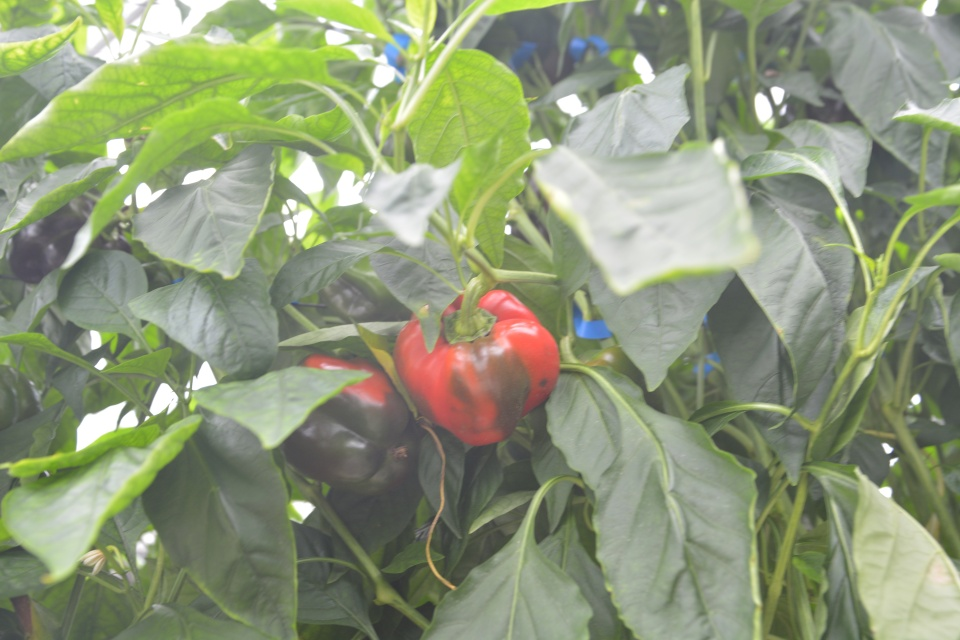fruit: (392, 287, 560, 447), (284, 350, 418, 497), (9, 197, 134, 282), (1, 364, 42, 432)
pedicle: (440, 306, 501, 344)
